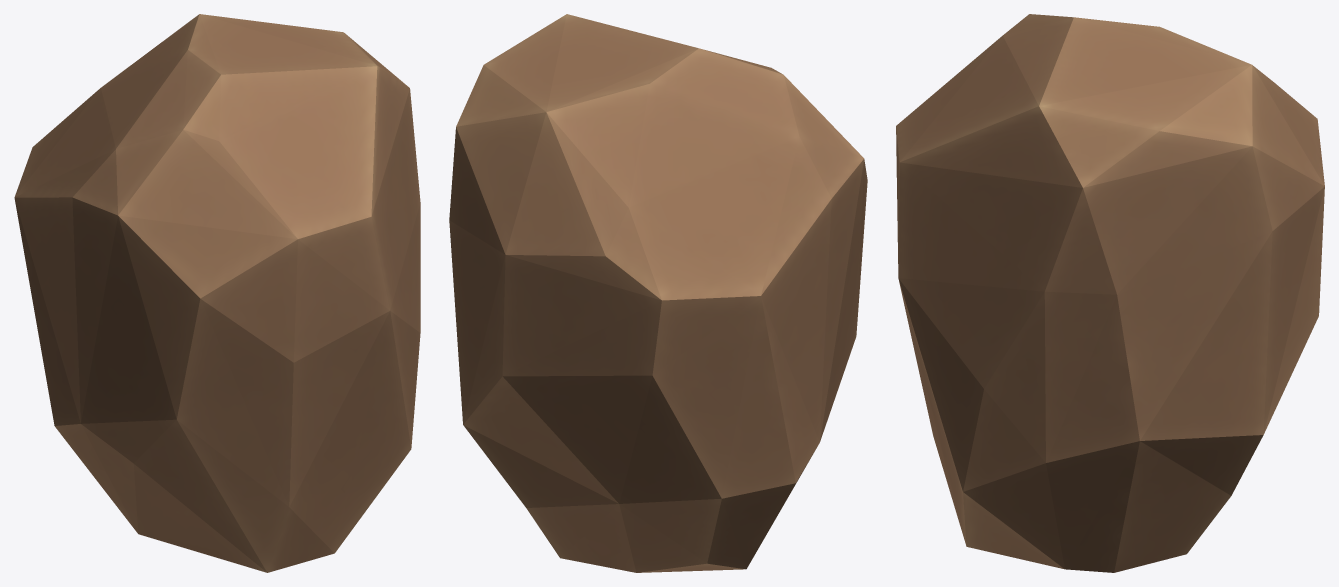
File: Rock_9.fbx
The picture shows the model from 3 angles, left to right: view 1: azimuth 30°, elevation 25°; view 2: azimuth 150°, elevation 25°; view 3: azimuth 270°, elevation 25°; orthographic projection. The views are drawn at different scales.
Visible parts, largest first — view 1: Rock_9; view 2: Rock_9; view 3: Rock_9.
Boxes of the visible parts, x1,y1,x2,y2 form: Rock_9: [14, 14, 420, 572]; Rock_9: [449, 14, 867, 572]; Rock_9: [896, 14, 1324, 572].
Size of the model in its own units: 26.34 by 35 by 27.45.
